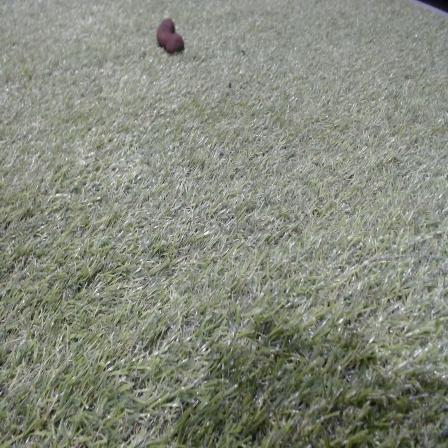dog-poop: (156, 16, 189, 57)
